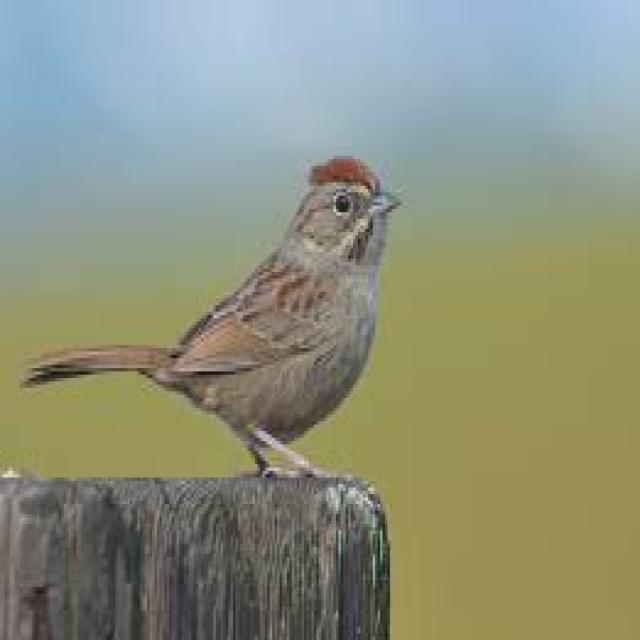Sparrow: (35, 140, 400, 484)
